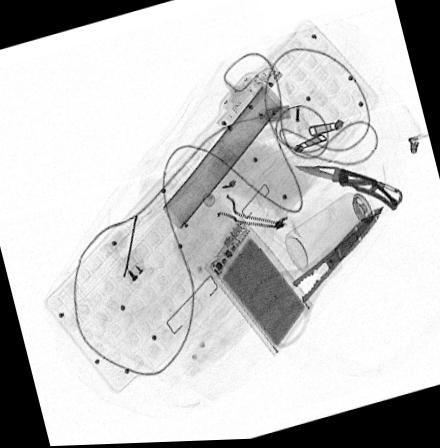Knife: (295, 167, 402, 213)
Powerbank: (201, 214, 312, 360)
Scissors: (246, 208, 381, 349)
Sprayer: (283, 176, 390, 275)
